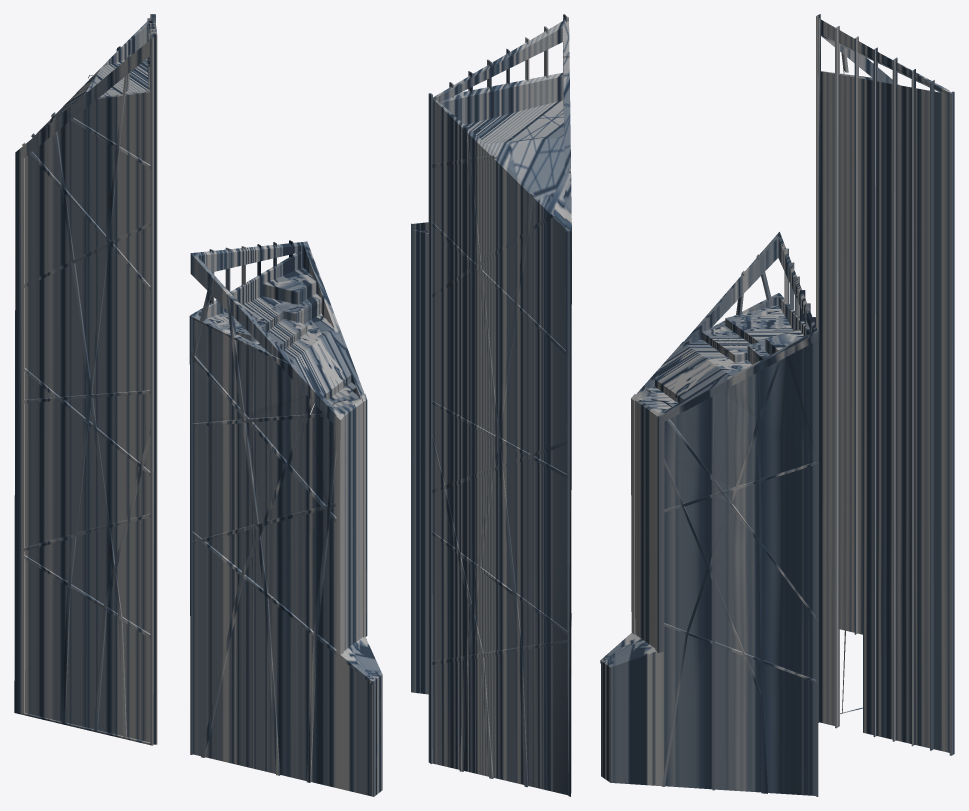
File: Landmarks_KrugerSec.glb
3 views of the same model, side by side, from view 1: azimuth 30°, elevation 25°; view 2: azimuth 150°, elevation 25°; view 3: azimuth 270°, elevation 25° (orthographic).
Visible parts, largest first — view 1: world; view 2: world; view 3: world.
Boxes of the visible parts, x1=… form: world: x1=14, y1=14, x2=382, y2=796; world: x1=411, y1=14, x2=571, y2=796; world: x1=600, y1=14, x2=954, y2=796.
Size of the model in its own units: 15970 by 47997 by 21757.
1 material, 1 textured.
